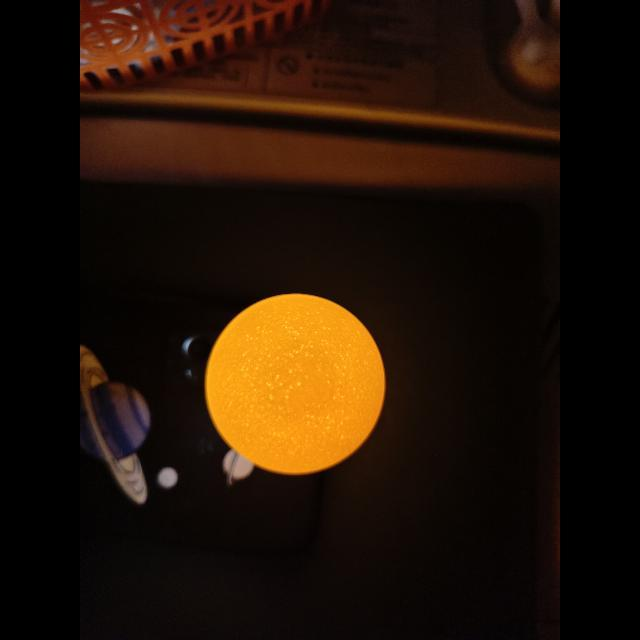AA - Premium: (205, 294, 385, 475)
